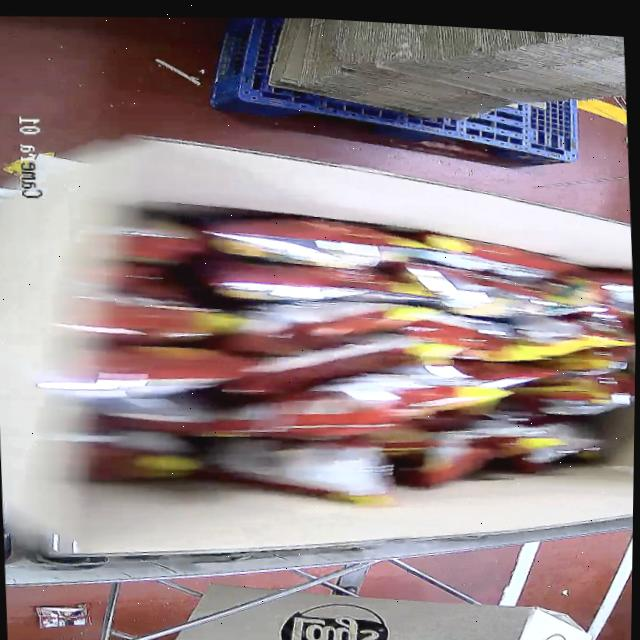MASALA: (25, 171, 637, 531)
